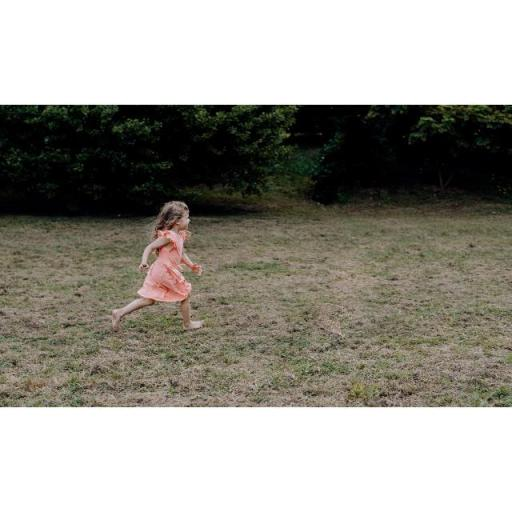Running: (102, 194, 214, 342)
